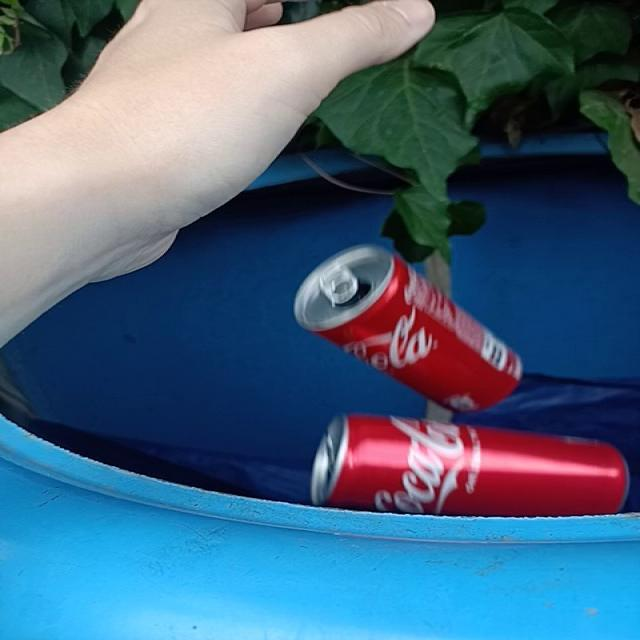bin: (2, 155, 640, 640), (451, 133, 640, 510)
metal: (295, 246, 524, 412), (311, 416, 631, 516)
